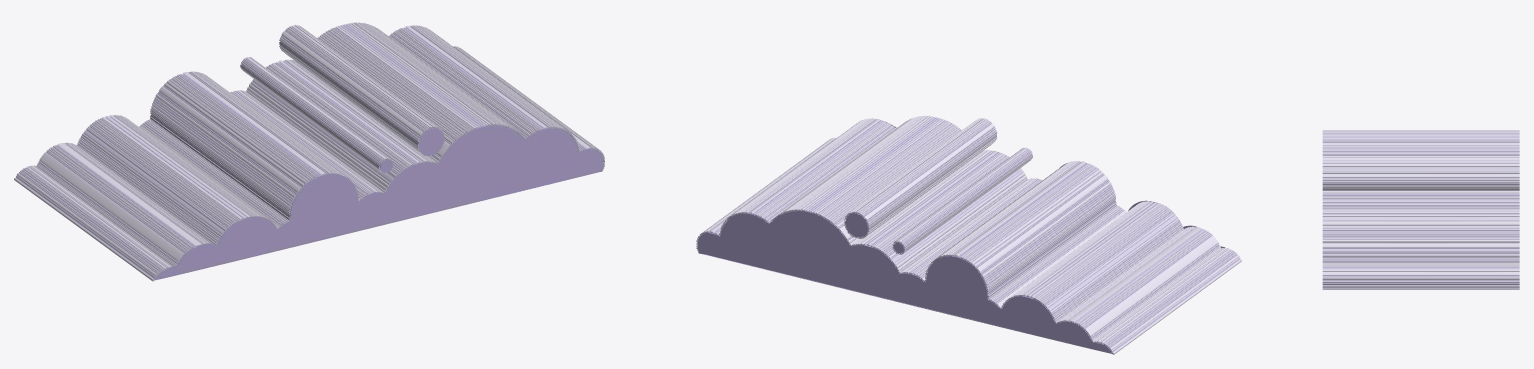
The model's file is cloud1_3D_test 1.fbx.
3 views of the same model, side by side, from view 1: azimuth 30°, elevation 25°; view 2: azimuth 150°, elevation 25°; view 3: azimuth 270°, elevation 25° (orthographic). The views are drawn at different scales.
Visible parts, largest first — view 1: path1, Screenshot_2026-09-28_at_11.38.41_PM-removebg-preview; view 2: path1; view 3: path1.
Part boxes in pixels (x1,y1,x2,y2): path1: [14, 22, 604, 281]; Screenshot_2026-09-28_at_11.38.41_PM-removebg-preview: [159, 125, 600, 278]; path1: [696, 115, 1241, 354]; path1: [1322, 130, 1519, 289].
Size of the model in its own units: 11.88 by 4.01 by 5.01.
